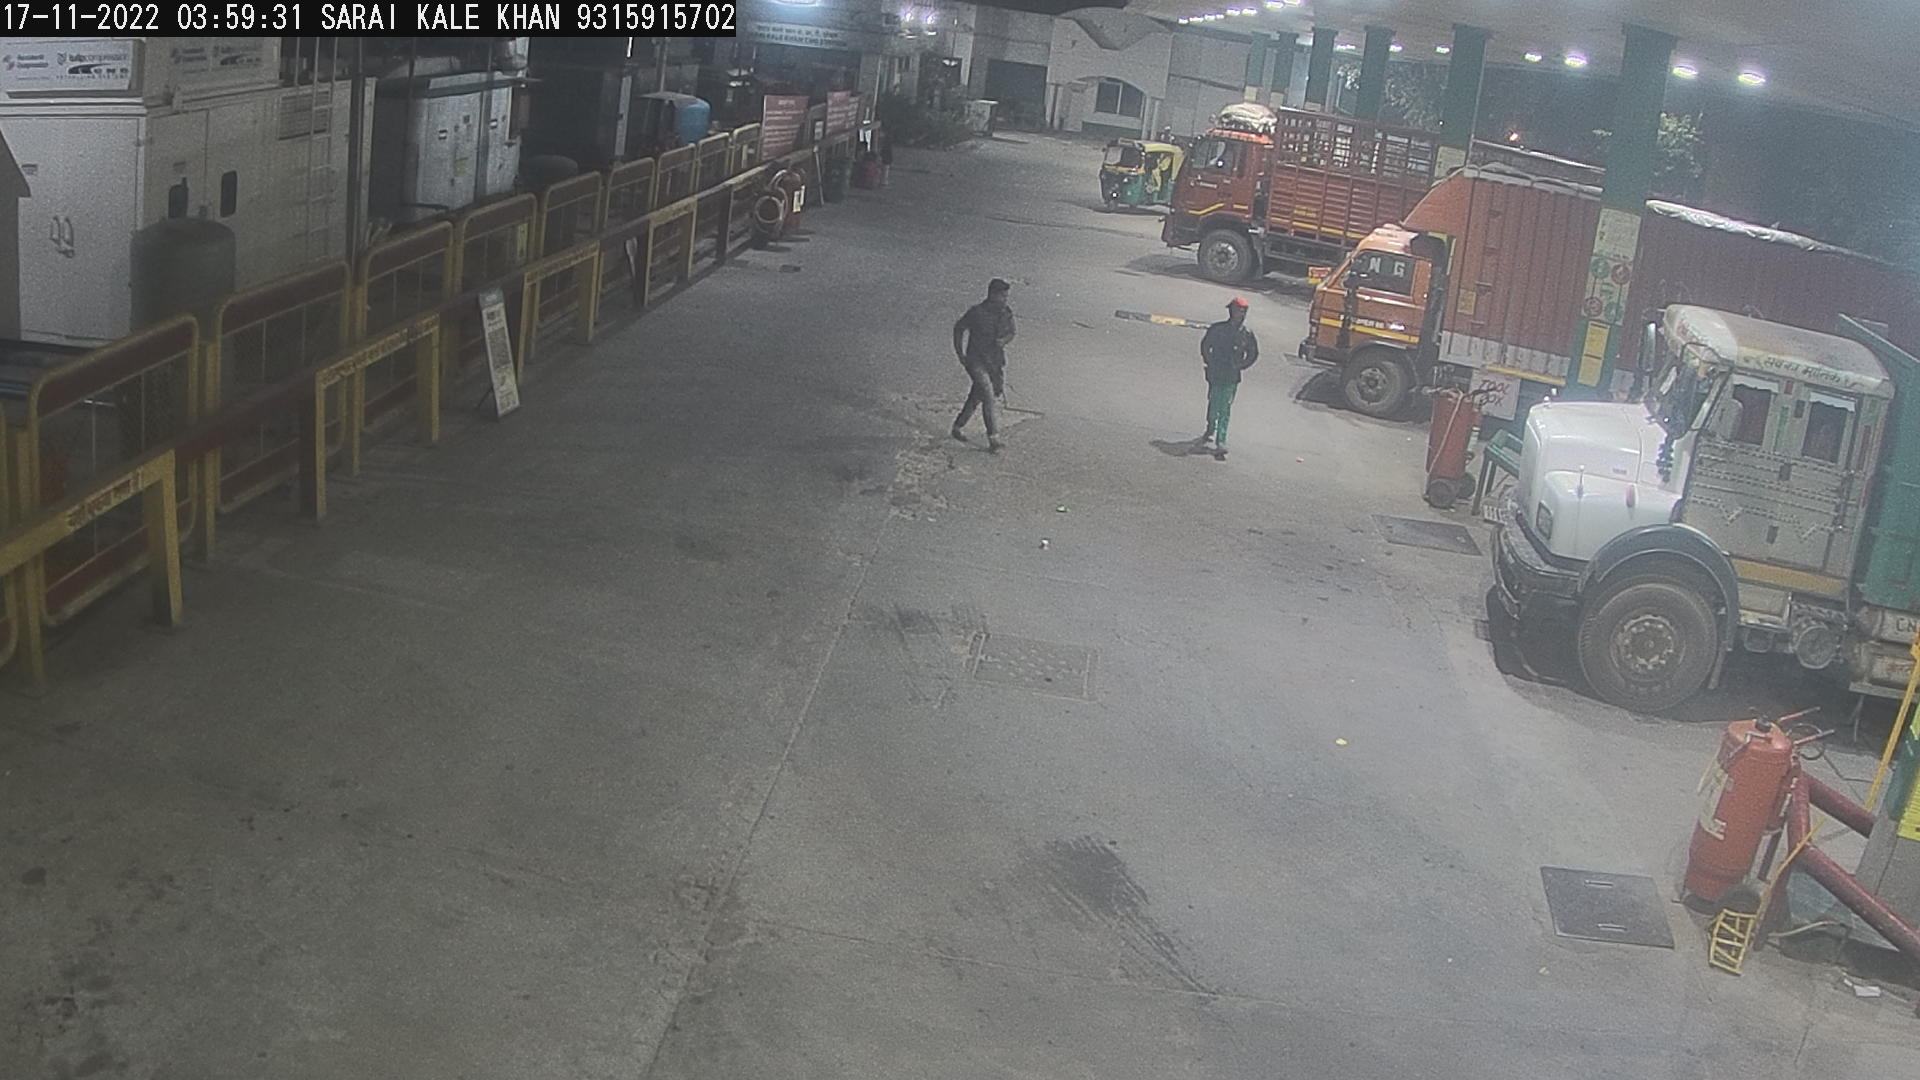Auto: (1089, 119, 1188, 224)
HMV: (1468, 266, 1917, 756), (1269, 156, 1644, 433), (1142, 80, 1456, 302)
Others: (1192, 293, 1265, 460)
Others Other: (1847, 595, 1920, 845), (1298, 253, 1338, 367)
